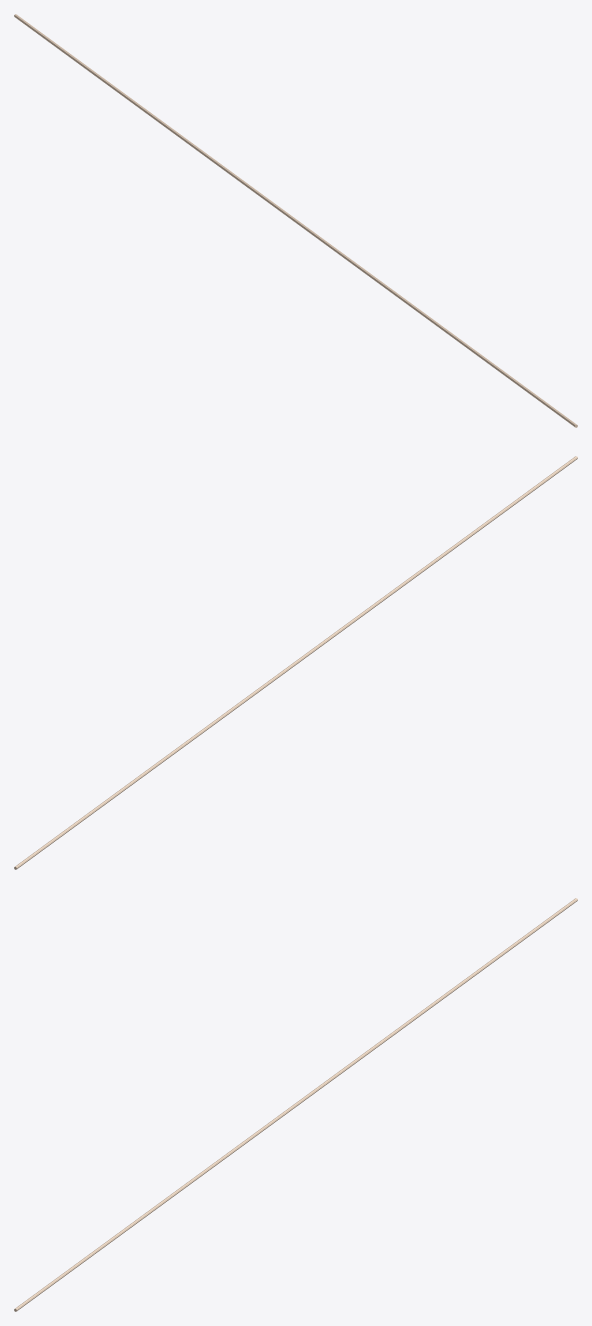
The model's file is SFFA_Bow_String.fbx.
The picture shows the model from 3 angles, top to bottom: view 1: azimuth 30°, elevation 25°; view 2: azimuth 150°, elevation 25°; view 3: azimuth 330°, elevation 25°; orthographic projection.
Parts seen in each view (by area): view 1: SFFA_Bow_String; view 2: SFFA_Bow_String; view 3: SFFA_Bow_String.
Part boxes in pixels (x1,y1,x2,y2): SFFA_Bow_String: [14, 14, 577, 427]; SFFA_Bow_String: [14, 456, 577, 869]; SFFA_Bow_String: [14, 898, 577, 1311].
Bounding box in the file's own units: 0.3588 × 0.3588 × 119.
